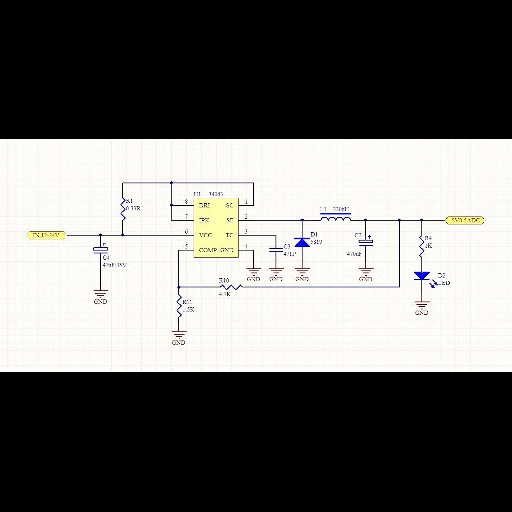capacitor: (267, 246, 284, 256)
firstdiode: (293, 236, 311, 250)
firstled: (412, 268, 438, 293)
gnd: (356, 266, 376, 277), (169, 330, 190, 340), (92, 288, 111, 299), (413, 300, 433, 310), (293, 266, 312, 276), (268, 267, 285, 277), (245, 267, 262, 276)
inductor: (318, 216, 354, 223)
secondpolarcapacitor: (90, 240, 113, 255), (357, 234, 377, 248)
secondresistance: (118, 196, 127, 225), (174, 292, 182, 321), (217, 284, 246, 292), (417, 233, 425, 261)
